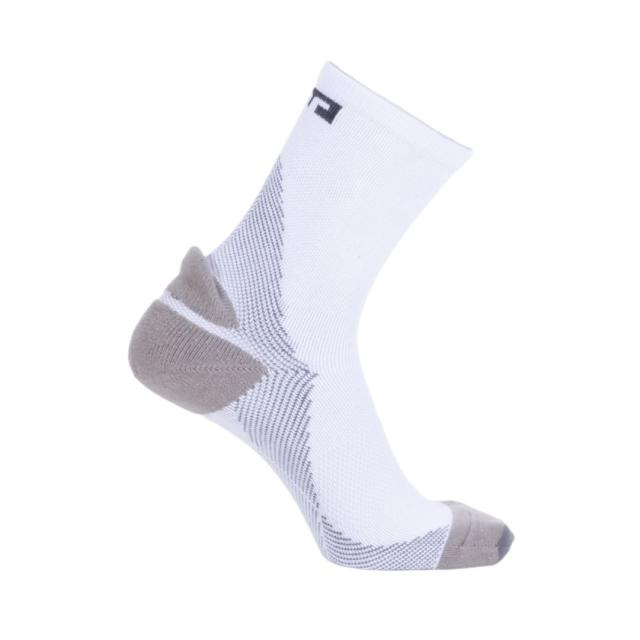sock: (127, 59, 514, 572)
